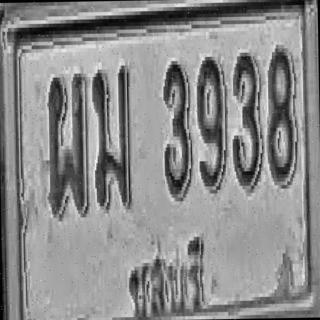A28: (46, 70, 88, 214)
A33: (92, 65, 132, 210)
N03: (231, 49, 262, 189), (162, 57, 192, 198)
N08: (266, 46, 296, 183)
N09: (196, 55, 226, 192)
P13: (121, 231, 206, 320)
